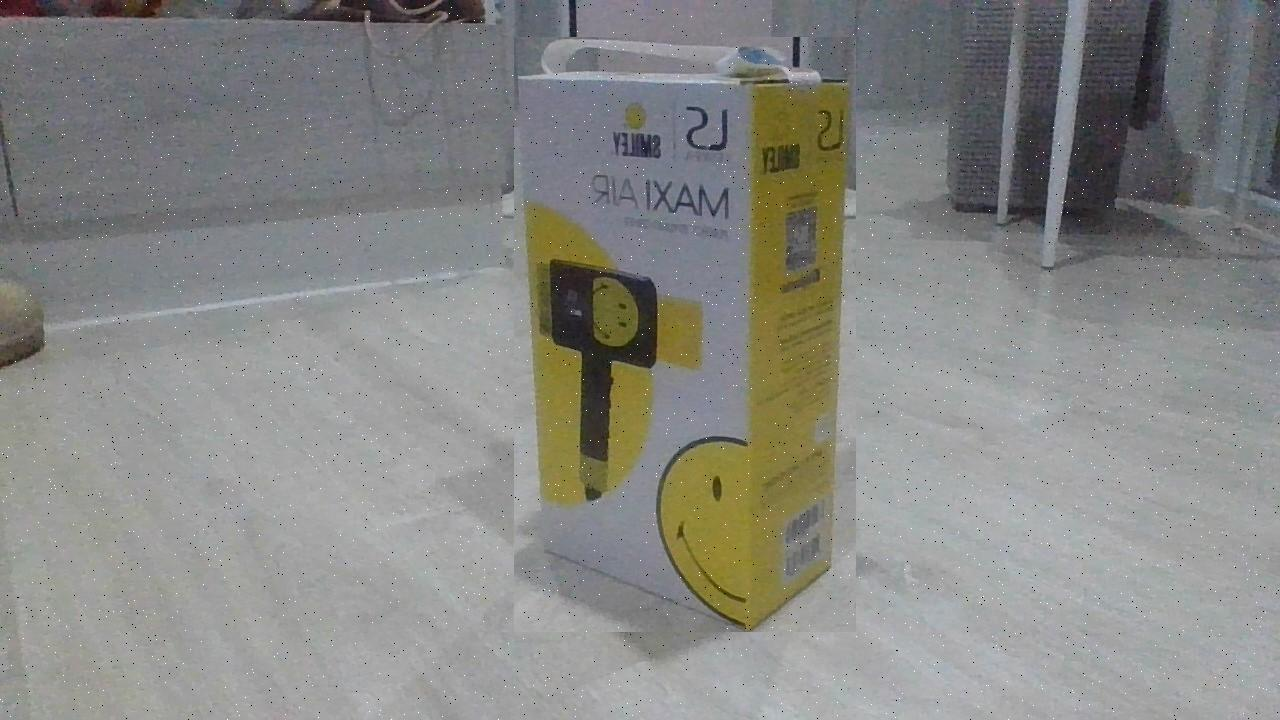Dryer: (514, 37, 856, 632)
